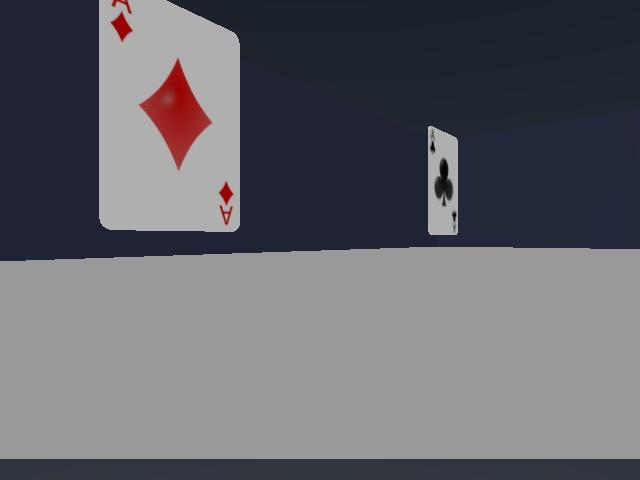club: (428, 126, 458, 234)
